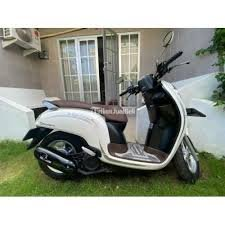motor: (30, 61, 203, 182)
